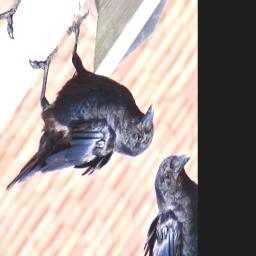Crow: (0, 0, 168, 256)
